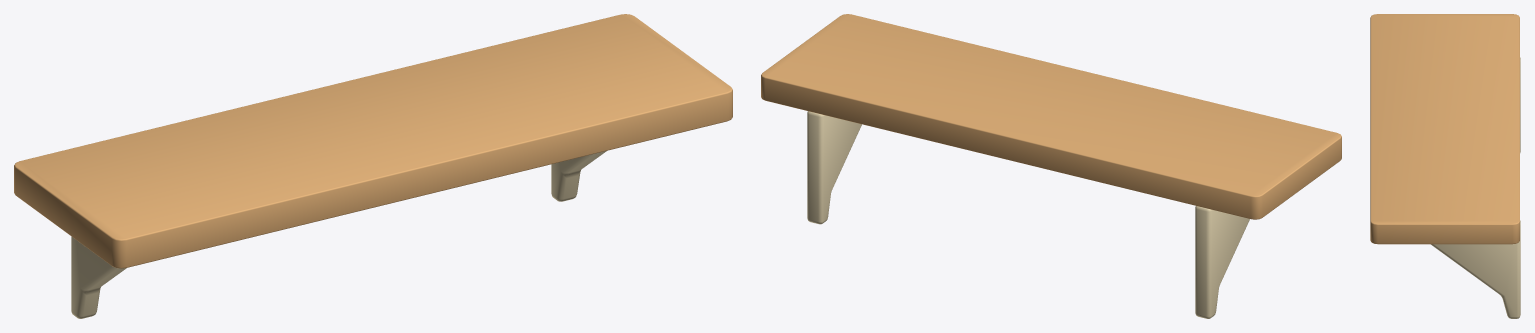
The model's file is prateleira_cozinha_creme.glb.
3 views of the same model, side by side, from view 1: azimuth 30°, elevation 25°; view 2: azimuth 150°, elevation 25°; view 3: azimuth 270°, elevation 25° (orthographic). The views are drawn at different scales.
Parts seen in each view (by area): view 1: prateleira_cozinha_creme; view 2: prateleira_cozinha_creme; view 3: prateleira_cozinha_creme.
Part boxes in pixels (bbox=[...]): prateleira_cozinha_creme: bbox=[14, 14, 732, 318]; prateleira_cozinha_creme: bbox=[761, 14, 1341, 318]; prateleira_cozinha_creme: bbox=[1370, 14, 1520, 318].
Size of the model in its own units: 0.8 by 0.206 by 0.241.
Materials: 1 (1 with a texture image).
